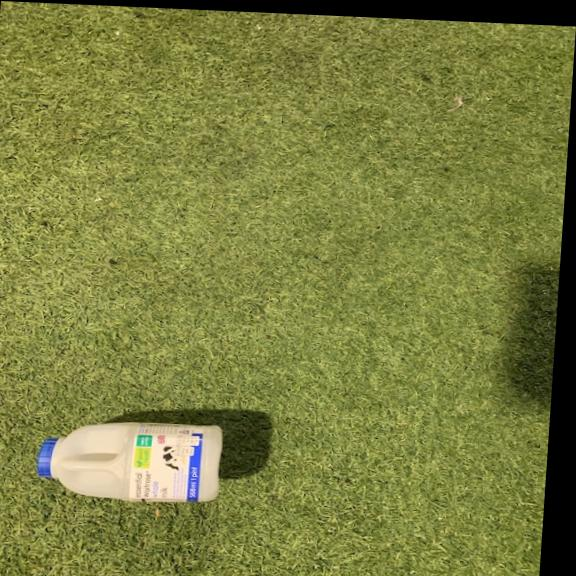Plastik: (35, 410, 229, 508)
